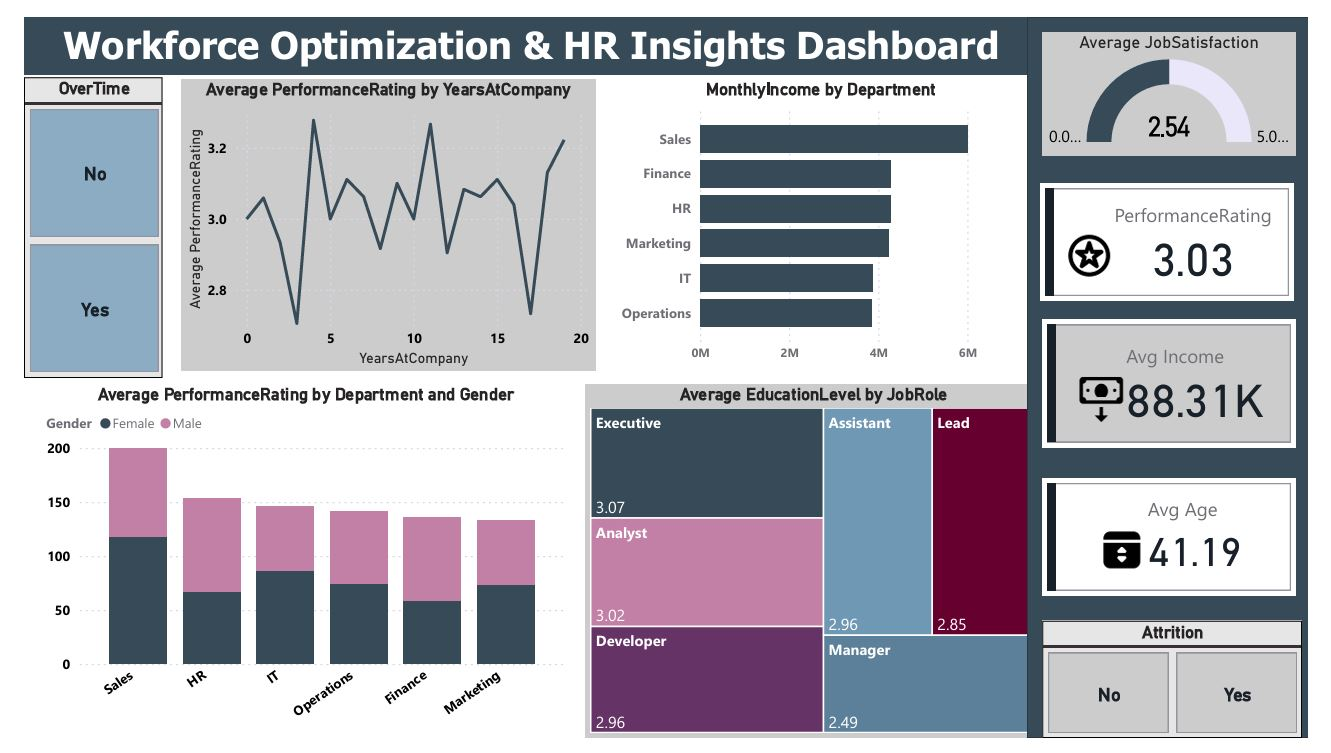

This screenshot's page, from the dashboard's own definition file:
{"tool":"powerbi","page":{"name":"Page 1","canvas":[1280,720],"ordinal":0},"visuals":[{"type":"textbox","box":[0,0,1000,57.4],"z":0},{"type":"treemap","fields":{"Group":["NovaTech_HR_Analytics.JobRole"],"Values":["Avg(NovaTech_HR_Analytics.EducationLevel)"]},"box":[559.6,366,455.3,353.2],"z":1000},{"type":"lineChart","fields":{"Category":["NovaTech_HR_Analytics.YearsAtCompany"],"Y":["Avg(NovaTech_HR_Analytics.PerformanceRating)"]},"box":[157.4,61.7,412.8,291.5],"z":2000},{"type":"columnChart","fields":{"Category":["NovaTech_HR_Analytics.Department"],"Y":["Sum(NovaTech_HR_Analytics.PerformanceRating)"],"Series":["NovaTech_HR_Analytics.Gender"]},"box":[17,366,527.7,353.2],"z":3000},{"type":"shape","box":[1000,0,280.9,719.1],"z":4000},{"type":"cardVisual","fields":{"Data":["Avg(NovaTech_HR_Analytics.PerformanceRating)"]},"box":[1012.8,166,253.2,117],"z":5000},{"type":"cardVisual","fields":{"Data":["Avg(NovaTech_HR_Analytics.MonthlyIncome)"]},"box":[1014.9,302.1,253.2,127.7],"z":6000},{"type":"cardVisual","fields":{"Data":["Avg(NovaTech_HR_Analytics.Age)"]},"box":[1014.9,459.6,253.2,117],"z":7000},{"type":"gauge","fields":{"Y":["Avg(NovaTech_HR_Analytics.JobSatisfaction)"]},"box":[1014.9,14.9,253.2,123.4],"z":8000},{"type":"advancedSlicerVisual","fields":{"Values":["NovaTech_HR_Analytics.Attrition"]},"box":[1014.9,602.1,259.6,117],"z":9000},{"type":"barChart","fields":{"Y":["Sum(NovaTech_HR_Analytics.MonthlyIncome)"],"Category":["NovaTech_HR_Analytics.Department"]},"box":[589.4,61.7,410.6,291.5],"z":10000},{"type":"advancedSlicerVisual","fields":{"Values":["NovaTech_HR_Analytics.OverTime"]},"box":[0,59.6,138.3,300],"z":10001}]}

Visuals, with their boxes in screenshot pixels (x1, y1, x2, y2), scaled from the page's 1280x720 canvas onto the 1331x753 screenshot:
textbox: left=0, top=0, right=1040, bottom=60
treemap - NovaTech_HR_Analytics.JobRole x Avg(NovaTech_HR_Analytics.EducationLevel): left=582, top=383, right=1055, bottom=752
lineChart - NovaTech_HR_Analytics.YearsAtCompany x Avg(NovaTech_HR_Analytics.PerformanceRating): left=164, top=65, right=593, bottom=369
columnChart - NovaTech_HR_Analytics.Department x Sum(NovaTech_HR_Analytics.PerformanceRating): left=18, top=383, right=566, bottom=752
shape: left=1040, top=0, right=1330, bottom=752
cardVisual - Avg(NovaTech_HR_Analytics.PerformanceRating): left=1053, top=174, right=1316, bottom=296
cardVisual - Avg(NovaTech_HR_Analytics.MonthlyIncome): left=1055, top=316, right=1319, bottom=449
cardVisual - Avg(NovaTech_HR_Analytics.Age): left=1055, top=481, right=1319, bottom=603
gauge - Avg(NovaTech_HR_Analytics.JobSatisfaction): left=1055, top=16, right=1319, bottom=145
advancedSlicerVisual - NovaTech_HR_Analytics.Attrition: left=1055, top=630, right=1325, bottom=752
barChart - Sum(NovaTech_HR_Analytics.MonthlyIncome) x NovaTech_HR_Analytics.Department: left=613, top=65, right=1040, bottom=369
advancedSlicerVisual - NovaTech_HR_Analytics.OverTime: left=0, top=62, right=144, bottom=376
